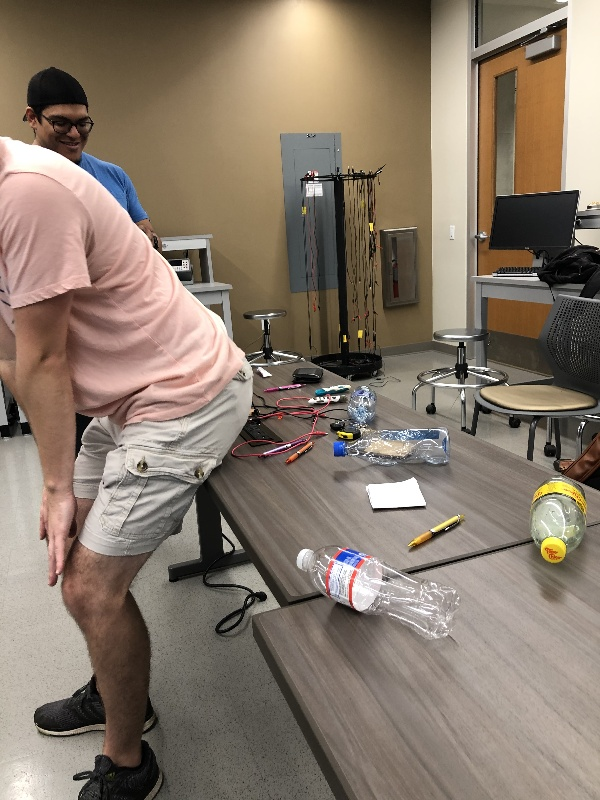bottle: (289, 539, 467, 647), (523, 471, 600, 568), (331, 427, 455, 468), (346, 382, 381, 429)
